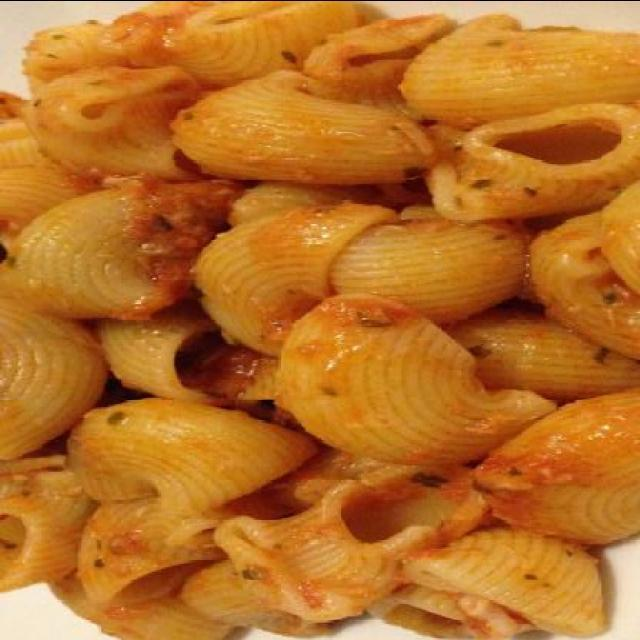Pasta al ragu: (15, 23, 639, 632)
